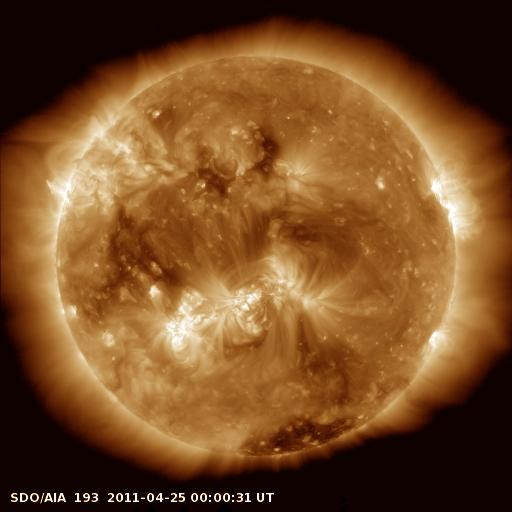coronal_hole: (242, 416, 361, 453), (240, 126, 286, 178)
